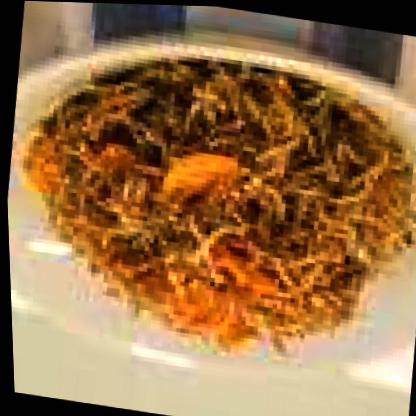stir-fried anchovies: (10, 34, 415, 377)
